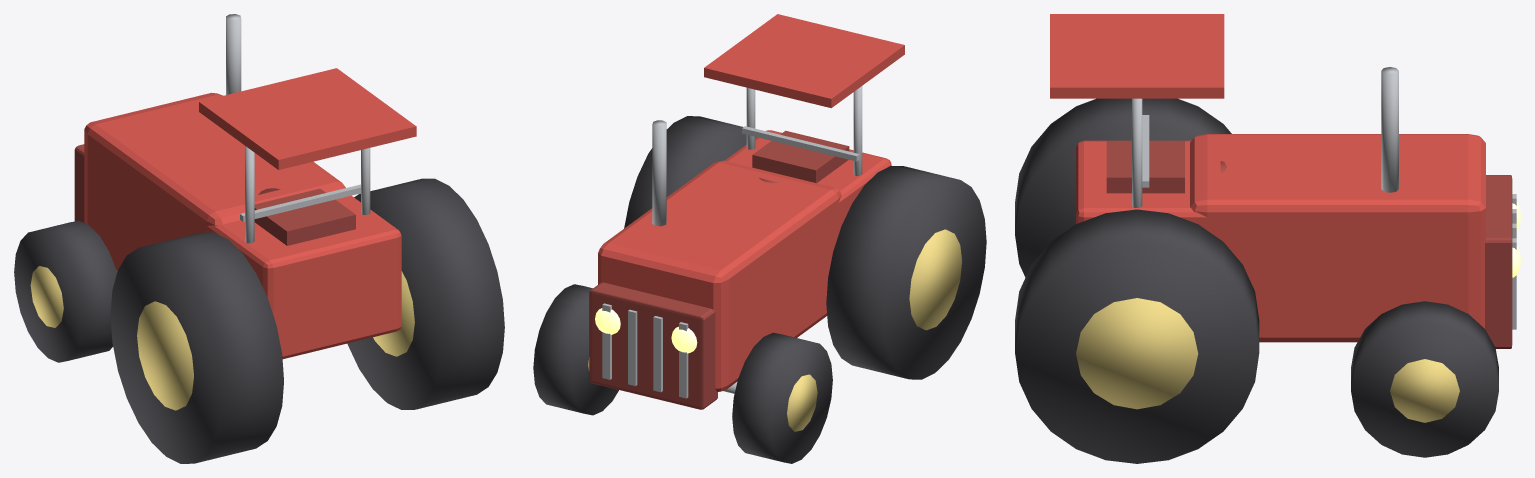
Rendered from world_tractor.glb.
3 renders of one model, left to right at view 1: azimuth 30°, elevation 25°; view 2: azimuth 150°, elevation 25°; view 3: azimuth 270°, elevation 25°, orthographic. The views are drawn at different scales.
Parts seen in each view (by area): view 1: world_tractor; view 2: world_tractor; view 3: world_tractor.
Part boxes in pixels (<box>): world_tractor: <box>14,14,504,463</box>; world_tractor: <box>533,14,986,463</box>; world_tractor: <box>1015,14,1520,463</box>.
Bounding box in the file's own units: 2.07 × 2.16 × 2.9.
